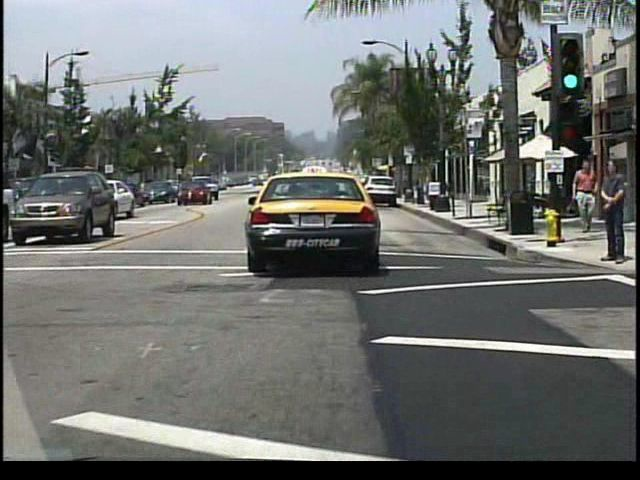person: (602, 157, 627, 267), (572, 159, 597, 233)
